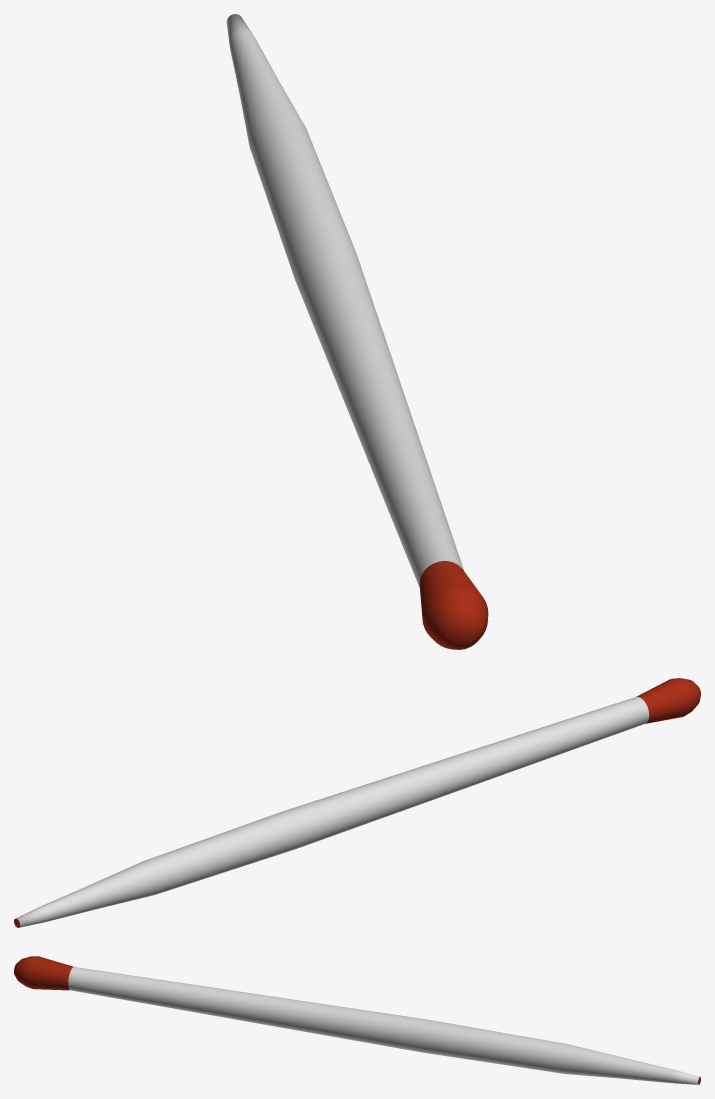
Rendered from glassrod.fbx.
3 renders of one model, top to bottom at view 1: azimuth 30°, elevation 25°; view 2: azimuth 150°, elevation 25°; view 3: azimuth 270°, elevation 25°, orthographic. The views are drawn at different scales.
Visible parts, largest first — view 1: Cylinder.011; view 2: Cylinder.011; view 3: Cylinder.011.
Part boxes in pixels (bbox=[...]): Cylinder.011: bbox=[226, 14, 488, 649]; Cylinder.011: bbox=[14, 678, 700, 927]; Cylinder.011: bbox=[14, 956, 700, 1084].
Bounding box in the file's own units: 54.53 × 6.62 × 135.
